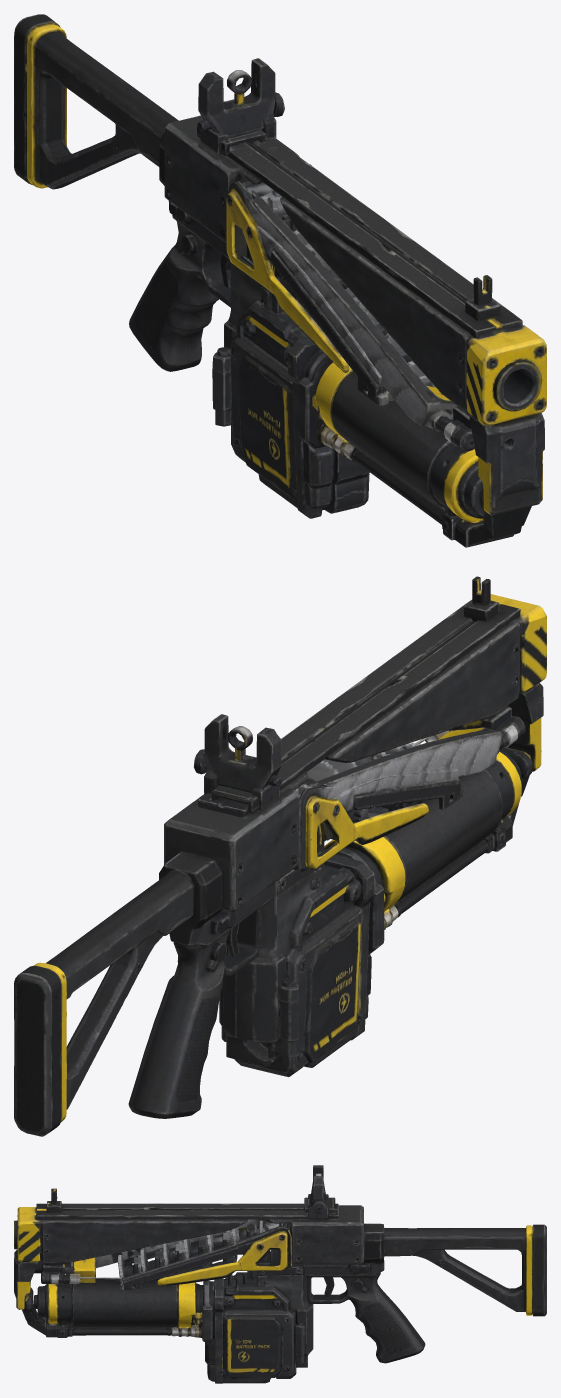
File: ricochet_launcher.high.glb
The picture shows the model from 3 angles, top to bottom: view 1: azimuth 30°, elevation 25°; view 2: azimuth 150°, elevation 25°; view 3: azimuth 270°, elevation 25°; orthographic projection. The views are drawn at different scales.
Parts seen in each view (by area): view 1: model; view 2: model; view 3: model.
Part boxes in pixels (left/top/right/bottom): model: left=14, top=14, right=546, bottom=547; model: left=14, top=576, right=546, bottom=1136; model: left=14, top=1165, right=546, bottom=1383.
Size of the model in its own units: 0.0894 by 0.3618 by 0.85.
1 material, 1 textured.
